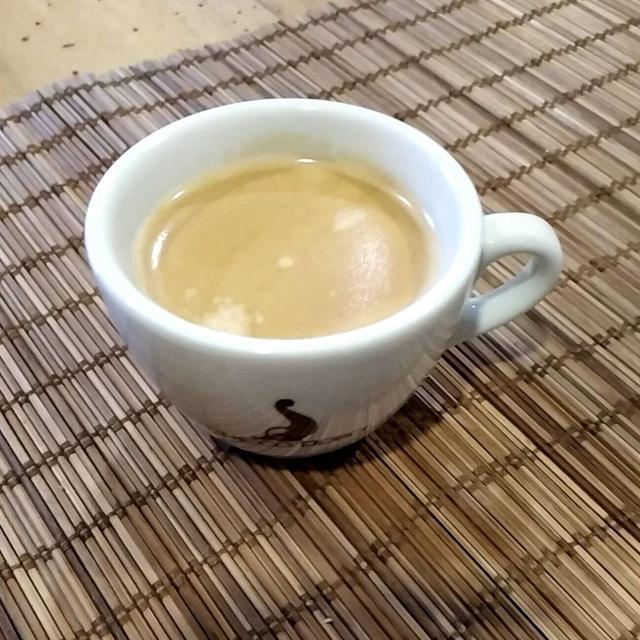espresso: (141, 160, 431, 335)
